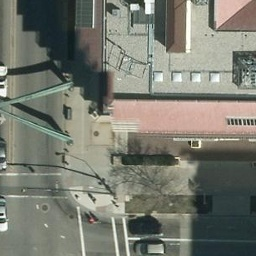car: (129, 217, 161, 234), (135, 239, 167, 256), (1, 64, 9, 99), (1, 200, 9, 231), (1, 137, 7, 171)
